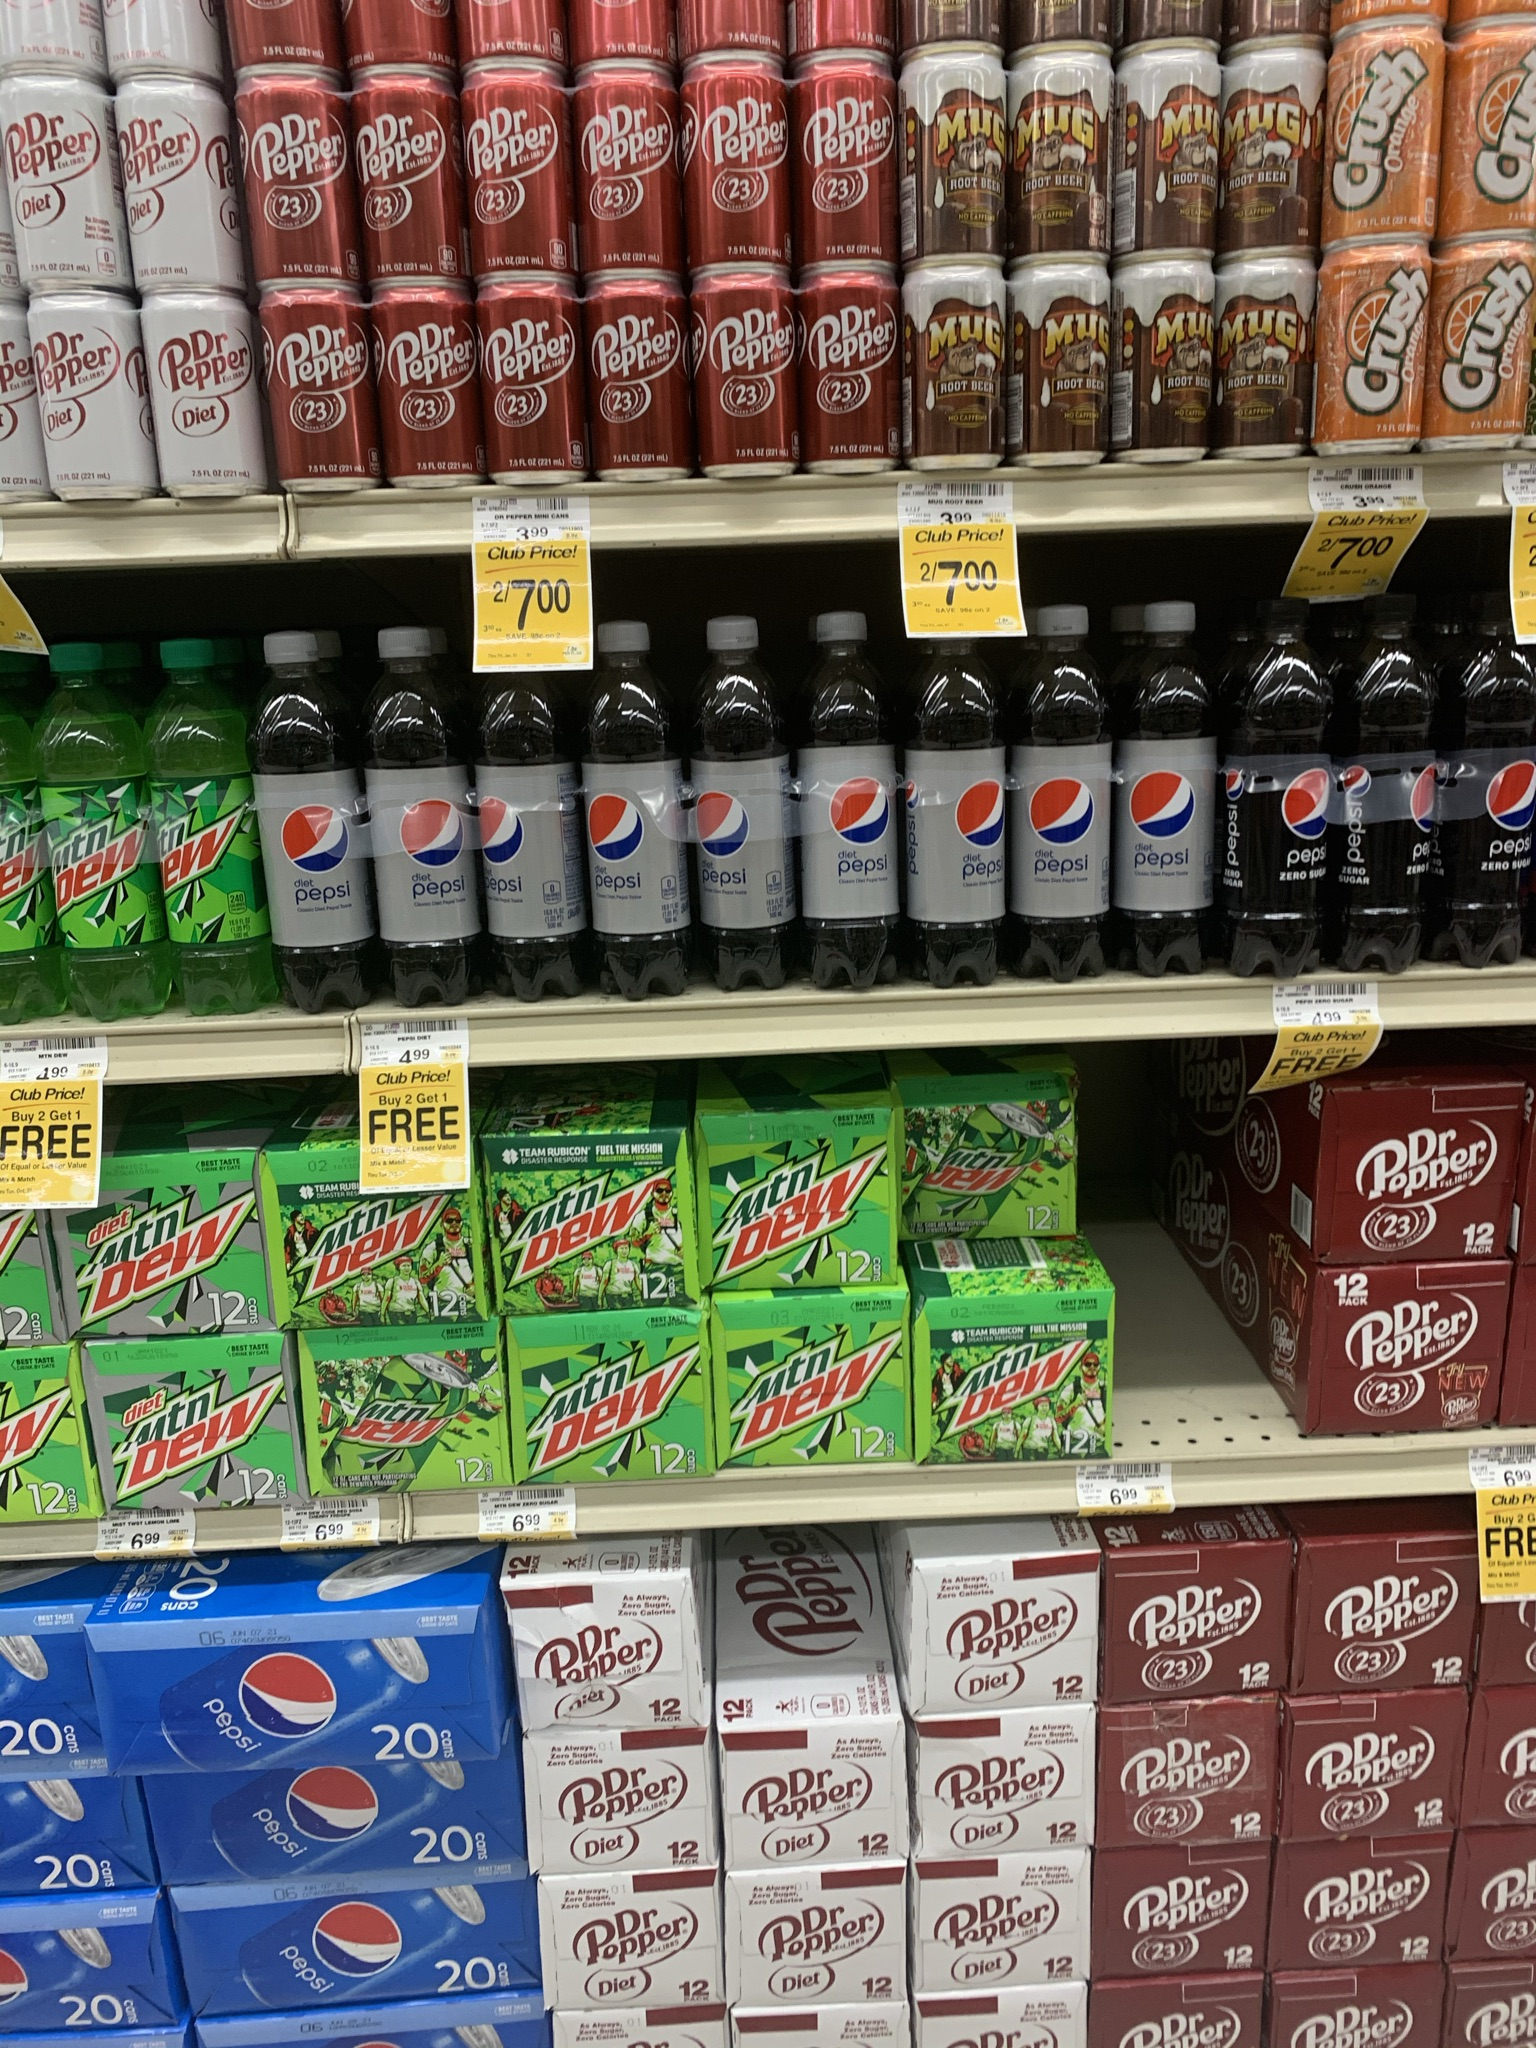box: (123, 1627, 494, 1758), (1299, 1534, 1489, 1696), (177, 1772, 507, 1866), (1338, 1092, 1525, 1253), (1110, 1534, 1288, 1700), (928, 1293, 1113, 1450), (712, 1734, 908, 1880), (1320, 1272, 1504, 1426), (190, 1909, 532, 1992), (712, 1130, 899, 1280), (718, 1308, 900, 1459), (513, 1138, 682, 1298), (524, 1330, 700, 1480), (284, 1192, 490, 1319), (103, 1351, 281, 1498), (90, 1171, 250, 1332), (319, 1350, 486, 1496), (539, 1593, 703, 1732), (537, 1755, 721, 1872), (918, 1093, 1075, 1227), (926, 1725, 1099, 1842), (937, 1579, 1092, 1692), (1123, 1709, 1252, 1832), (1120, 1867, 1263, 1966)
can: (724, 1864, 907, 2009), (116, 76, 232, 298), (27, 305, 153, 502), (137, 298, 260, 497), (231, 82, 344, 297), (470, 289, 587, 490), (582, 277, 684, 481), (679, 69, 783, 269), (686, 285, 794, 476), (899, 61, 1007, 252), (1273, 1840, 1442, 1961), (374, 261, 466, 484), (1326, 42, 1434, 231), (463, 82, 573, 266), (908, 264, 1007, 469), (573, 73, 673, 273), (1325, 248, 1421, 453), (783, 74, 887, 261), (260, 285, 358, 484), (353, 73, 452, 269), (1118, 269, 1220, 456), (1121, 55, 1218, 248), (791, 282, 894, 460), (16, 77, 102, 287), (1220, 277, 1307, 452)
